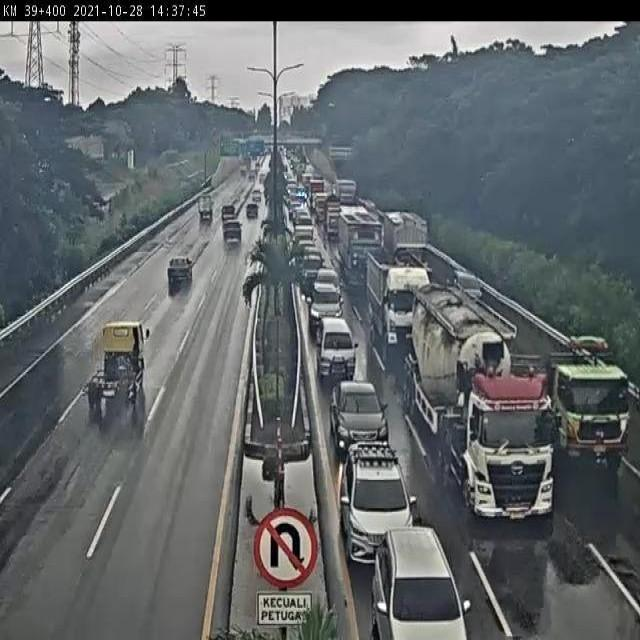big truck: (401, 287, 561, 528), (528, 325, 635, 468), (360, 247, 436, 349), (338, 210, 384, 282), (383, 207, 433, 272)
car: (366, 526, 476, 640), (342, 453, 419, 571), (329, 373, 399, 468), (313, 316, 363, 387), (303, 280, 351, 336), (164, 246, 198, 306), (447, 263, 486, 301), (220, 221, 242, 251), (219, 200, 240, 229), (242, 202, 261, 222), (250, 187, 265, 205)
small truck: (72, 313, 156, 439), (194, 193, 217, 228)
